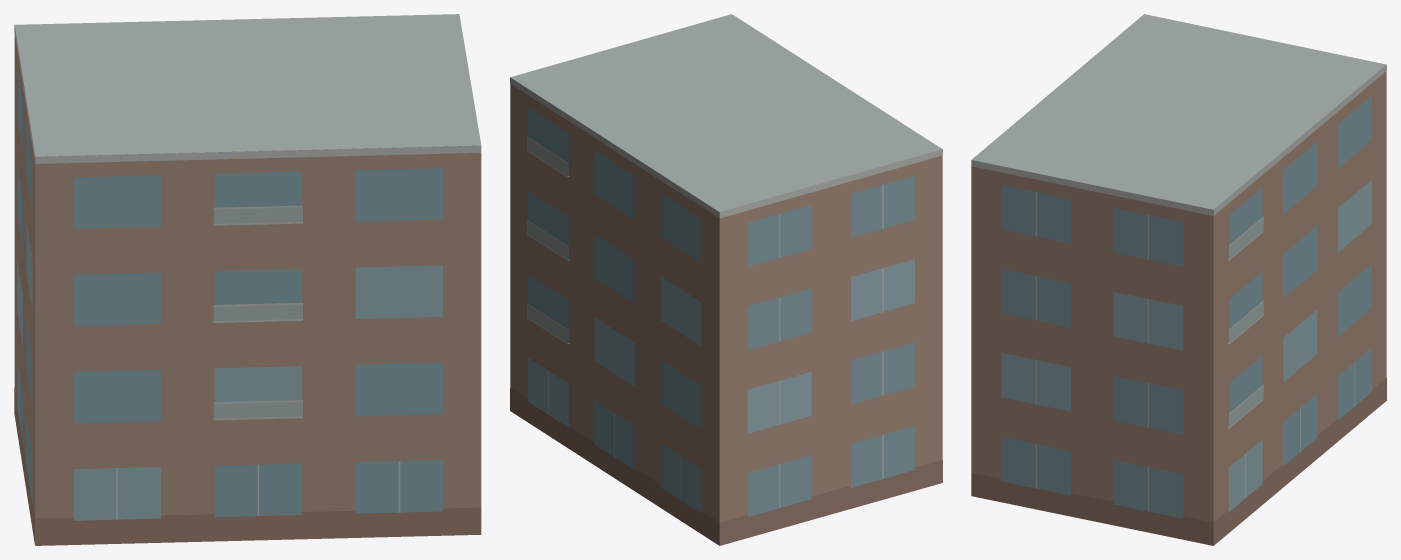
File: survey-upis-32966255.glb
3 renders of one model, left to right at view 1: azimuth 30°, elevation 25°; view 2: azimuth 150°, elevation 25°; view 3: azimuth 270°, elevation 25°, orthographic. The views are drawn at different scales.
Visible parts, largest first — view 1: survey-upis-32966255.tmp; view 2: survey-upis-32966255.tmp; view 3: survey-upis-32966255.tmp.
Boxes of the visible parts, x1,y1,x2,y2 form: survey-upis-32966255.tmp: (14, 14, 481, 545); survey-upis-32966255.tmp: (510, 14, 942, 545); survey-upis-32966255.tmp: (971, 14, 1386, 545).
Bounding box in the file's own units: 16.31 × 13.05 × 14.63.
